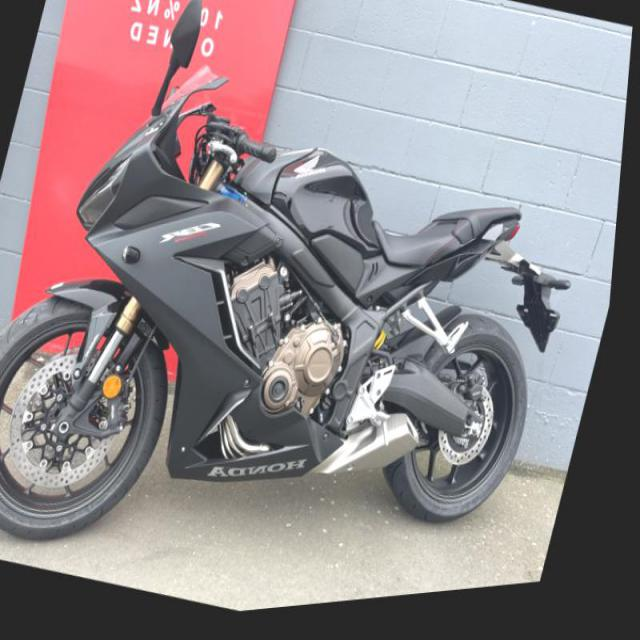CBR650R: (0, 0, 613, 639)
